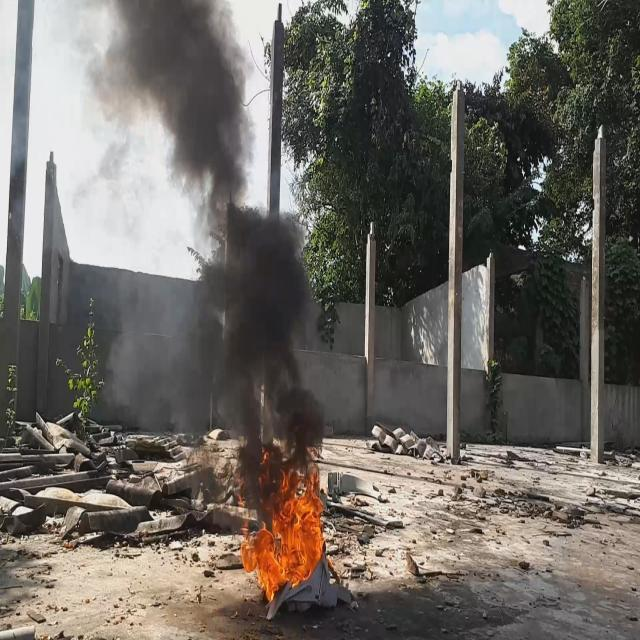Fire: (240, 458, 324, 606)
Smoke: (78, 0, 326, 527)
